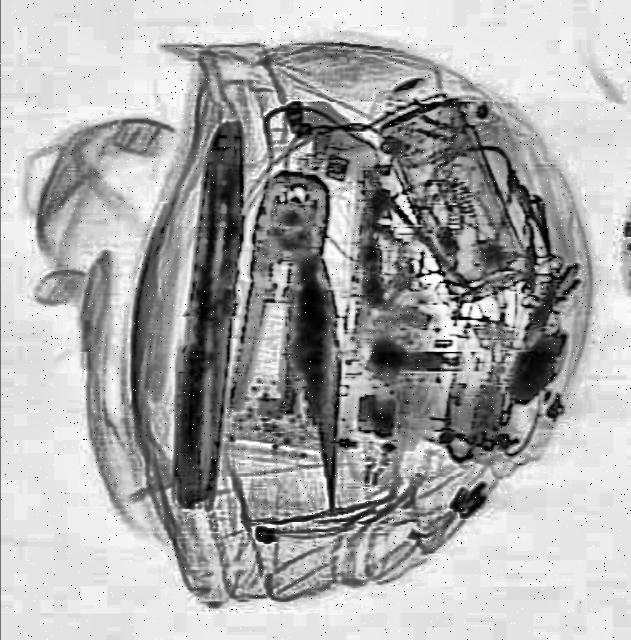Pliers: (216, 172, 360, 514)
